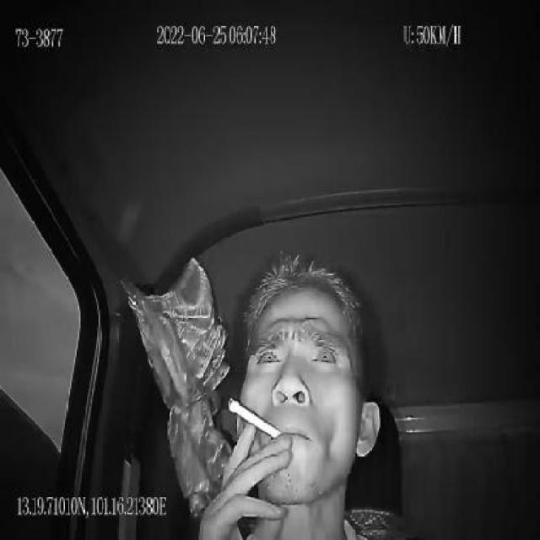smoking: (227, 393, 283, 444)
